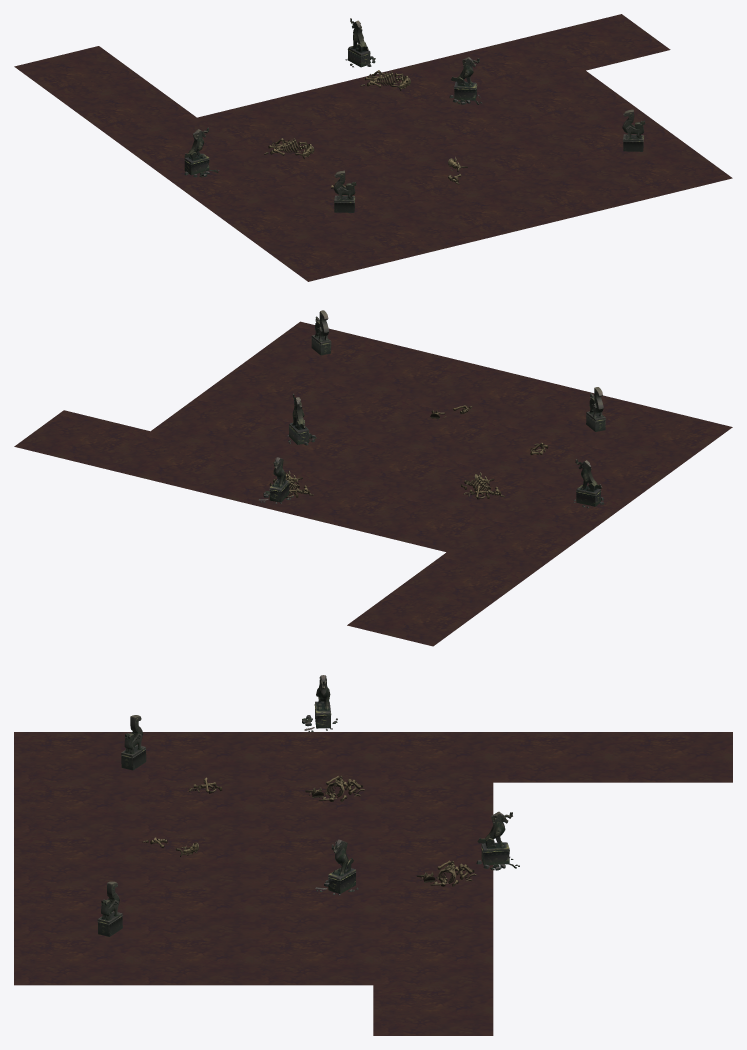
The model's file is mesh_zuhe_7.FBX.
3 renders of one model, top to bottom at view 1: azimuth 30°, elevation 25°; view 2: azimuth 150°, elevation 25°; view 3: azimuth 270°, elevation 25°, orthographic. The views are drawn at different scales.
Visible parts, largest first — view 1: mesh_zuhe_7; view 2: mesh_zuhe_7; view 3: mesh_zuhe_7.
Part boxes in pixels (bbox=[...]): mesh_zuhe_7: bbox=[14, 14, 732, 281]; mesh_zuhe_7: bbox=[14, 310, 732, 646]; mesh_zuhe_7: bbox=[14, 675, 732, 1035].
Bounding box in the file's own units: 6340 × 659 × 6340.
1 material, 1 textured.
